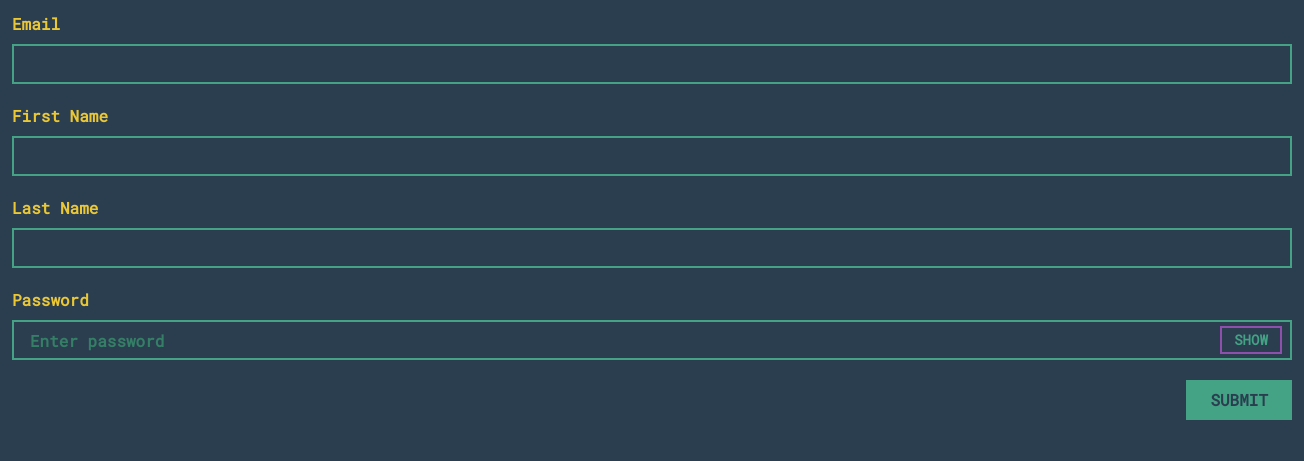
RegisterForm - Field Errors › test email validator with invalid email
This screenshot has width=1304, height=461.
Type "dave.tsl.io" into the field with test id "email-field" at coordinates (652, 64), box [12, 44, 1292, 84]
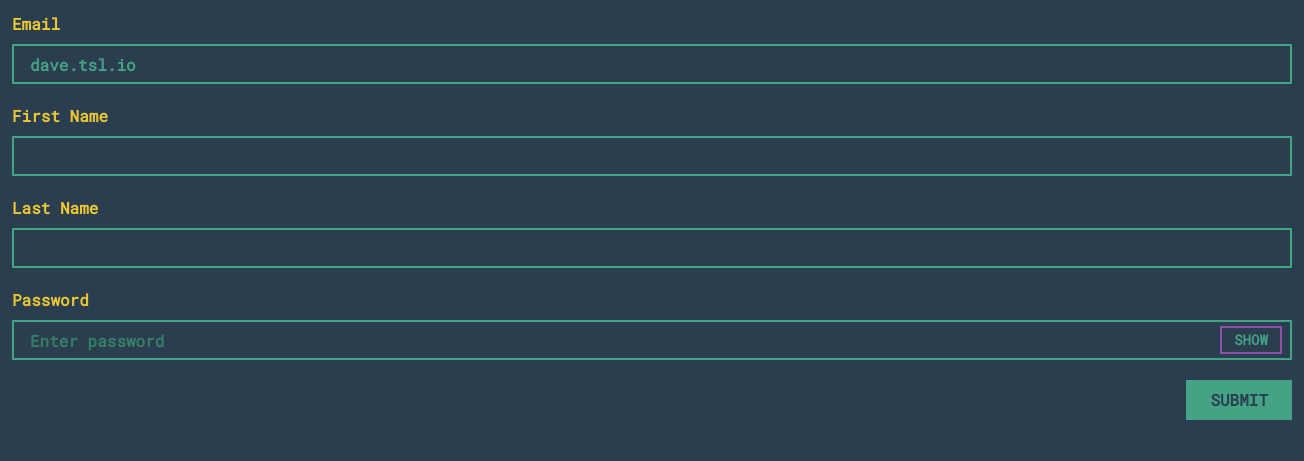
Press Tab
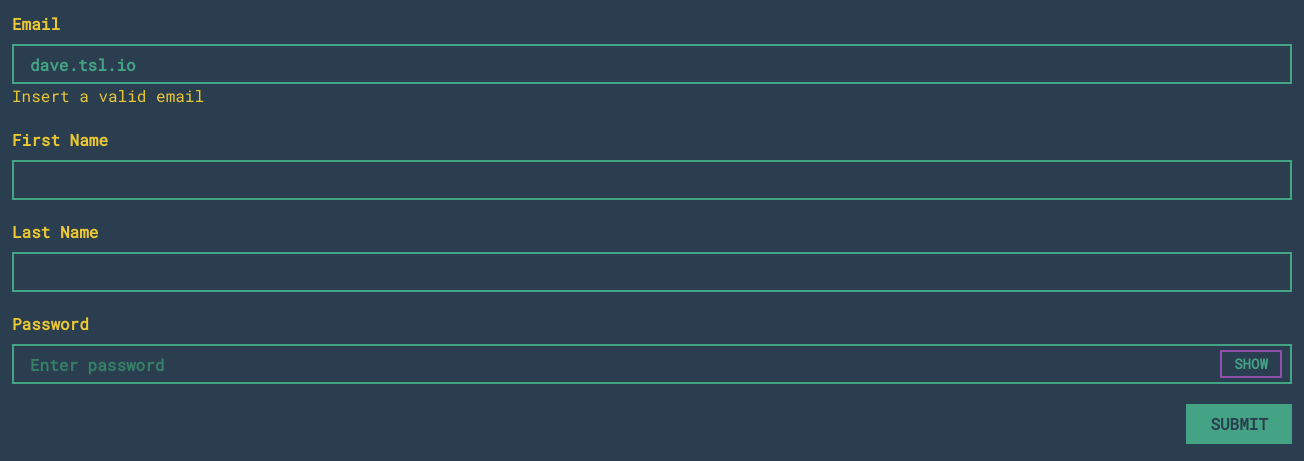
Expected: the text with test id "email-error" reads "Insert a valid email", [12, 85, 204, 106]
